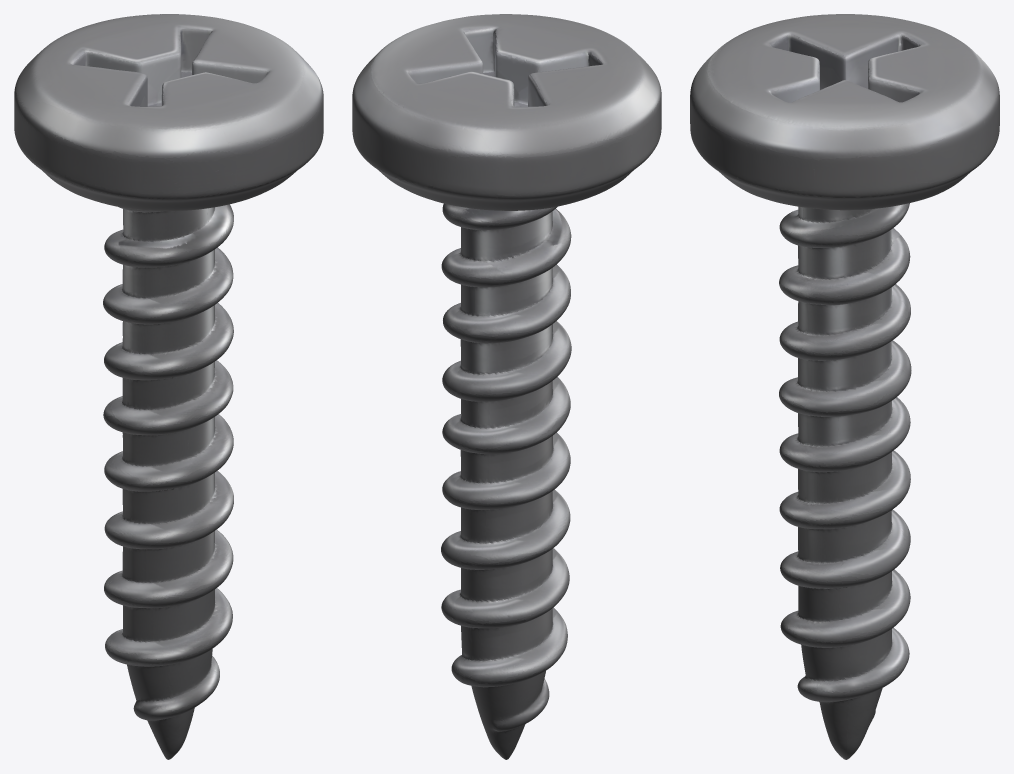
3 renders of one model, left to right at view 1: azimuth 30°, elevation 25°; view 2: azimuth 150°, elevation 25°; view 3: azimuth 270°, elevation 25°, orthographic.
Parts seen in each view (by area): view 1: geometry_0; view 2: geometry_0; view 3: geometry_0.
Boxes of the visible parts, <box> form: geometry_0: <box>14,14,323,759</box>; geometry_0: <box>352,14,661,759</box>; geometry_0: <box>690,14,999,759</box>.
Size of the model in its own units: 0.4027 by 1 by 0.4059.
1 material, 1 textured.
